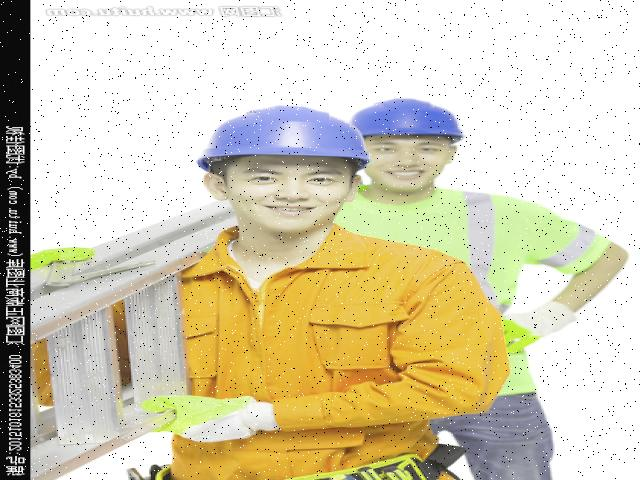Helmet: (191, 103, 378, 176), (350, 94, 470, 144)
